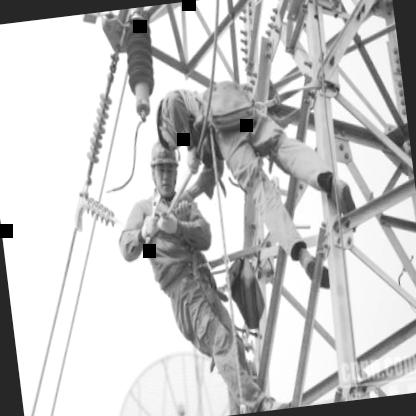helmet: (140, 127, 184, 204), (155, 88, 195, 148)
